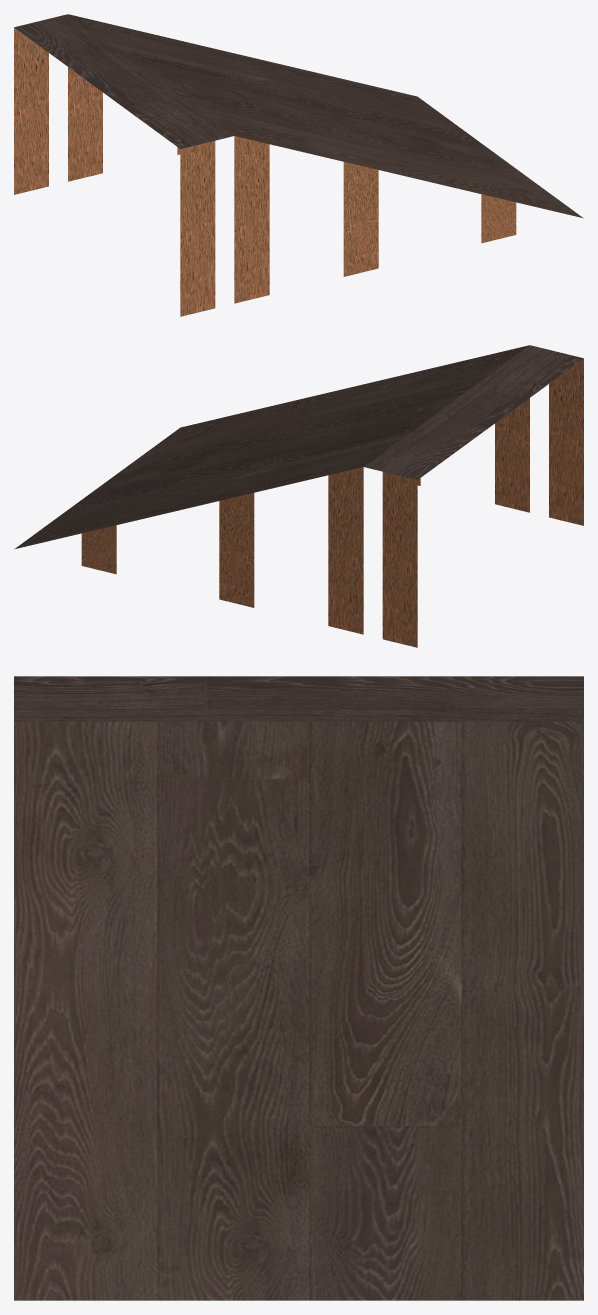
Rendered from rampa.fbx.
The picture shows the model from 3 angles, top to bottom: view 1: azimuth 30°, elevation 25°; view 2: azimuth 150°, elevation 25°; view 3: azimuth 270°, elevation 25°; orthographic projection. The views are drawn at different scales.
Parts seen in each view (by area): view 1: Object_9, Object_1, Object_4, Object_5, Object_3, Object_8, Object_2; view 2: Object_9, Object_5, Object_8, Object_1, Object_7, Object_4, Object_6; view 3: Object_9.
Boxes of the visible parts, x1=… form: Object_9: x1=14, y1=14, x2=583, y2=218; Object_1: x1=180, y1=141, x2=215, y2=316; Object_4: x1=234, y1=136, x2=269, y2=303; Object_5: x1=14, y1=27, x2=48, y2=194; Object_3: x1=343, y1=162, x2=378, y2=276; Object_8: x1=68, y1=67, x2=102, y2=181; Object_2: x1=481, y1=194, x2=516, y2=243; Object_9: x1=14, y1=345, x2=583, y2=549; Object_5: x1=382, y1=472, x2=417, y2=647; Object_8: x1=328, y1=467, x2=363, y2=634; Object_1: x1=549, y1=358, x2=583, y2=525; Object_7: x1=219, y1=493, x2=254, y2=607; Object_4: x1=495, y1=398, x2=529, y2=512; Object_6: x1=81, y1=525, x2=116, y2=574; Object_9: x1=14, y1=676, x2=583, y2=1300.
Bounding box in the file's own units: 175 × 125 × 69.51.
Materials: 2 (2 with a texture image).
